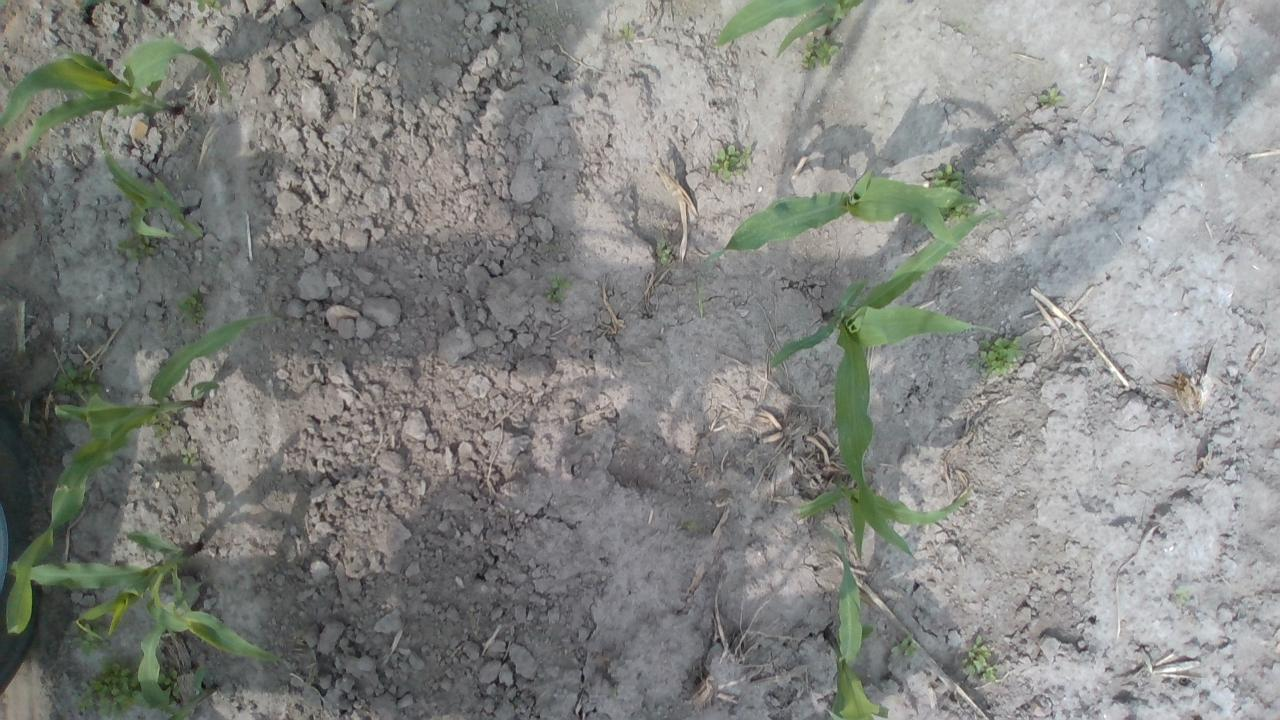Maize: (766, 205, 1004, 504), (46, 310, 280, 538), (7, 528, 282, 719), (696, 168, 1000, 318), (1, 40, 232, 186), (802, 519, 894, 720), (794, 471, 978, 564), (95, 114, 208, 250), (712, 1, 858, 62)
Weeds: (68, 658, 208, 718), (38, 595, 103, 678), (925, 164, 980, 212), (53, 360, 102, 400), (980, 334, 1024, 376), (799, 34, 844, 70), (168, 286, 204, 326), (710, 144, 749, 180), (969, 642, 1000, 682), (149, 406, 172, 437), (1038, 84, 1064, 110), (1174, 584, 1196, 613), (547, 282, 571, 306), (178, 448, 200, 472), (894, 637, 918, 657), (658, 238, 674, 261), (618, 25, 636, 42), (196, 0, 219, 12)
